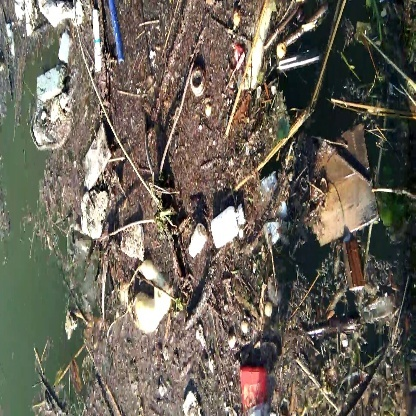bottle: (186, 223, 208, 261)
plastic-garbage: (30, 65, 75, 152)
